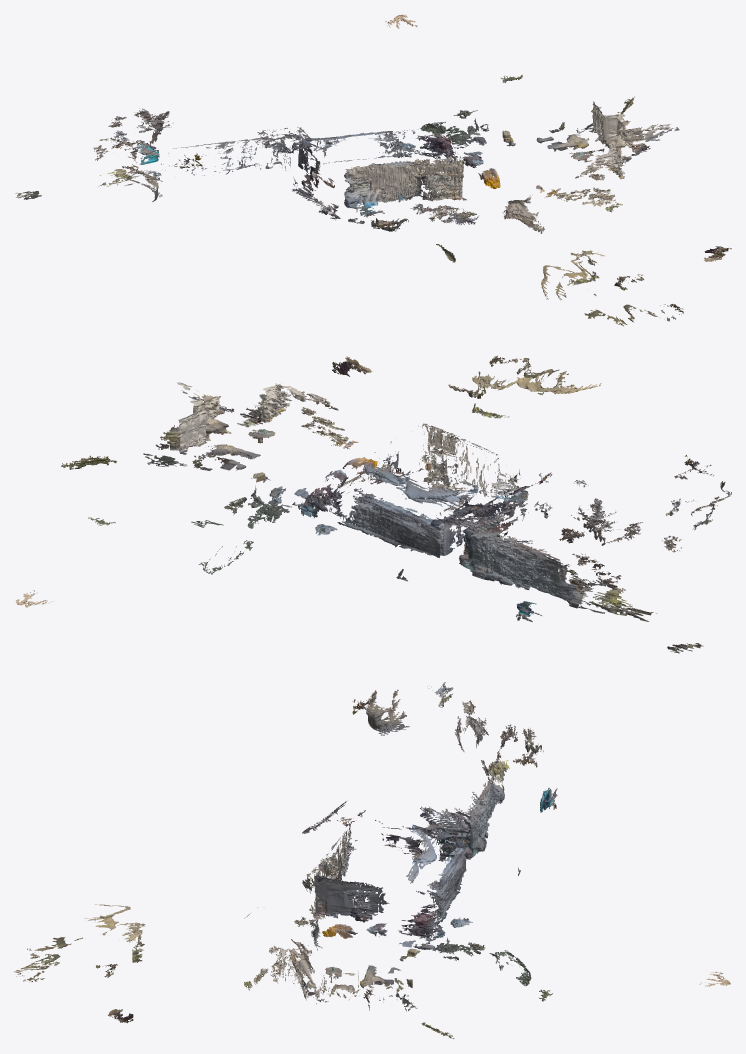
Rendered from structures.glb.
3 views of the same model, one above another, from view 1: azimuth 30°, elevation 25°; view 2: azimuth 150°, elevation 25°; view 3: azimuth 270°, elevation 25° (orthographic). The views are drawn at different scales.
Visible parts, largest first — view 1: geometry_0; view 2: geometry_0; view 3: geometry_0.
Boxes of the visible parts, x1=… form: geometry_0: x1=15, y1=14, x2=731, y2=326; geometry_0: x1=15, y1=355, x2=731, y2=653; geometry_0: x1=14, y1=682, x2=730, y2=1038.
Size of the model in its own units: 36.85 by 8.42 by 38.56.
